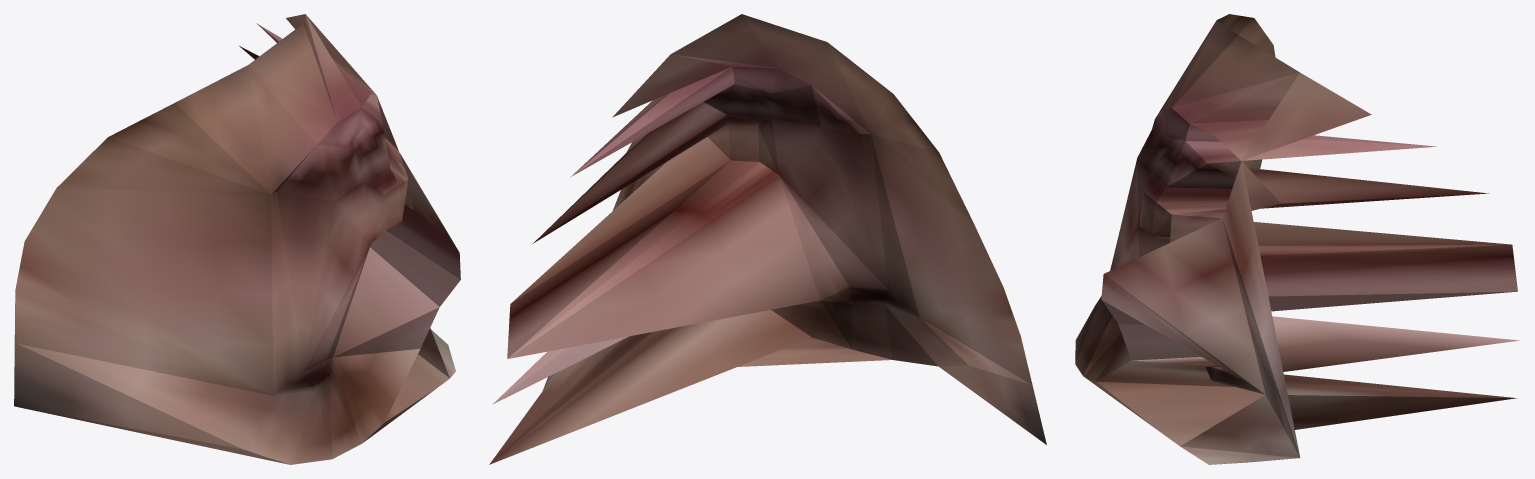
The model's file is fake_64349.obj.
3 renders of one model, left to right at view 1: azimuth 30°, elevation 25°; view 2: azimuth 150°, elevation 25°; view 3: azimuth 270°, elevation 25°, orthographic. The views are drawn at different scales.
Size of the model in its own units: 104 by 85 by 94.24.
